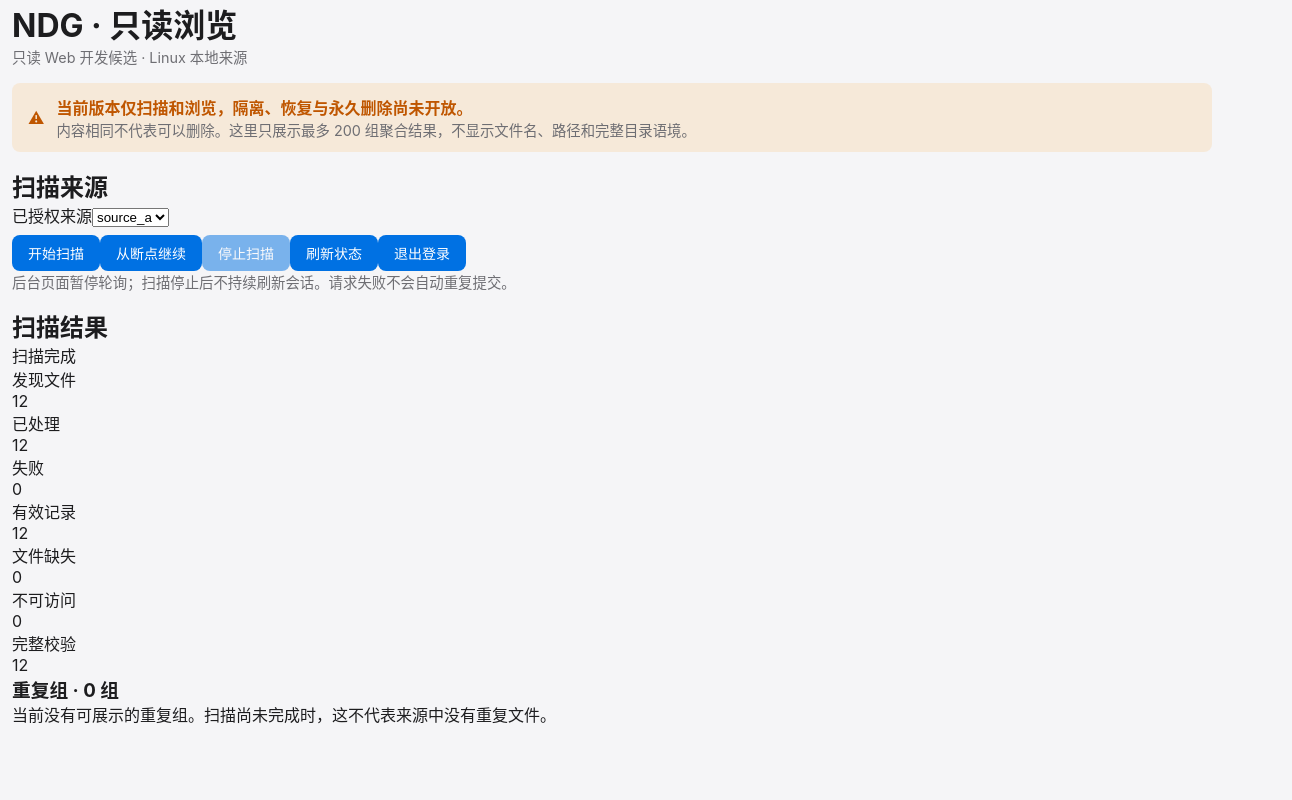
Test: does not replay a refused scan or present it as accepted
Expected: the text "扫描完成" is shown, 12,346 -> 76,366
Click the button "开始扫描".
click(56, 253)  # box 12,235 -> 100,271
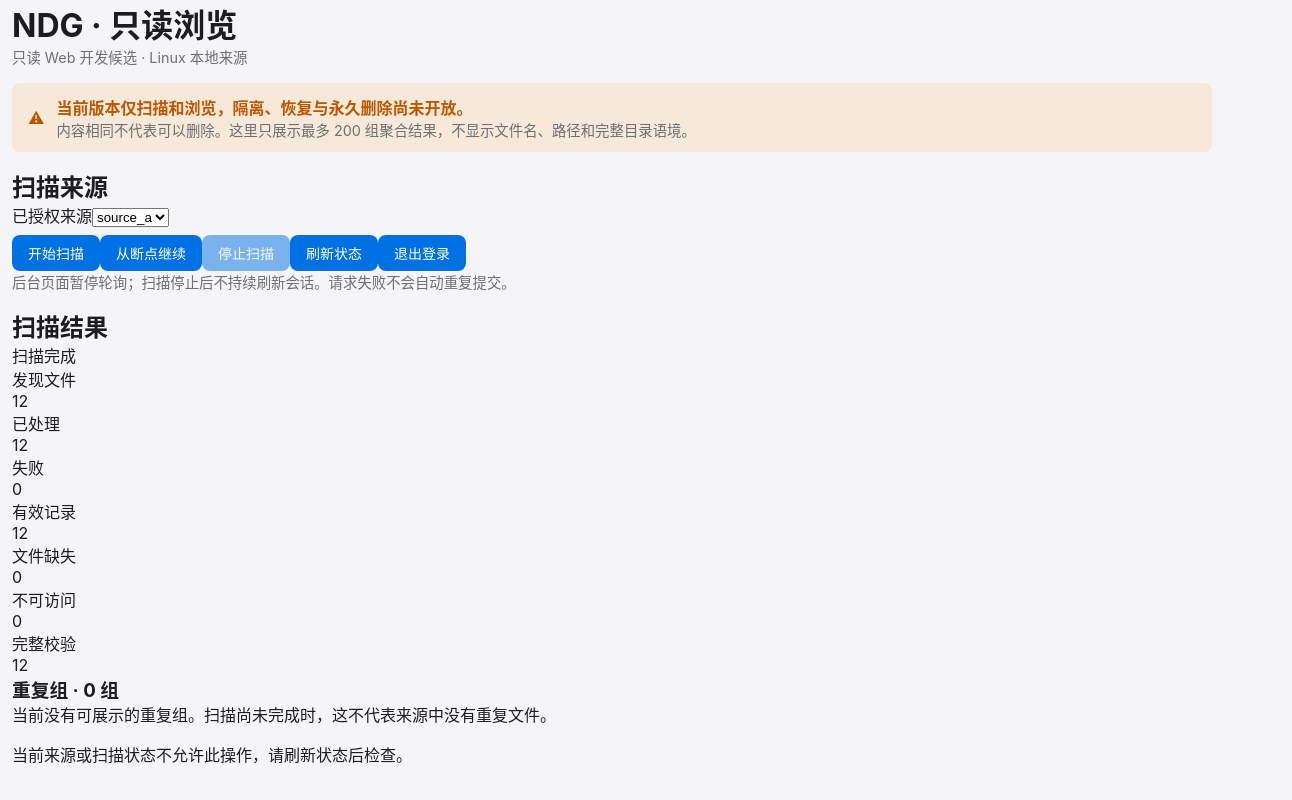
Result: the message "当前来源或扫描状态不允许此操作，请刷新状态后检查。" is shown at 12,745 -> 412,765
